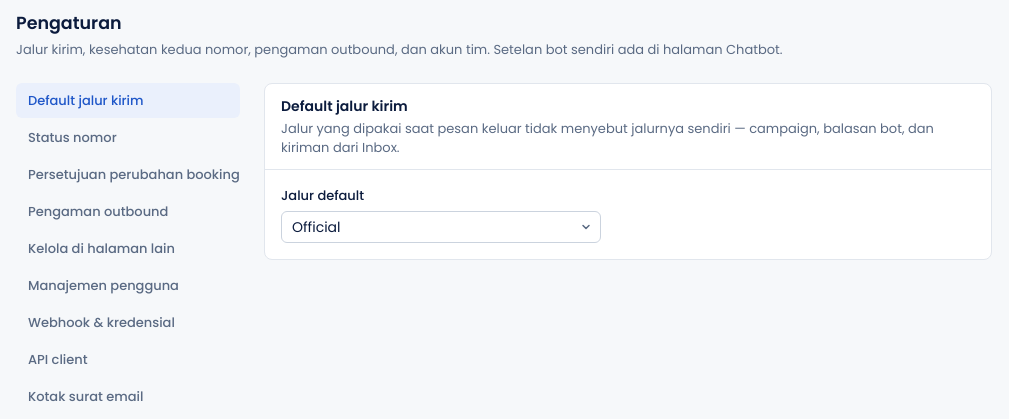
SettingsPage — Status nomor › shows the Unofficial badge as configured, with no relink control
Click the button "Status nomor".
click(128, 138)  # box [16, 120, 240, 155]
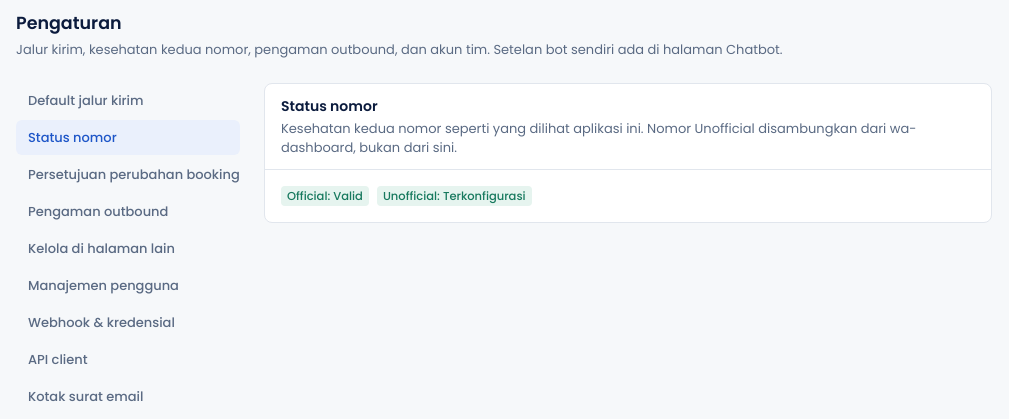
Expected: the text "Unofficial: Terkonfigurasi" is shown, [377, 186, 532, 206]
